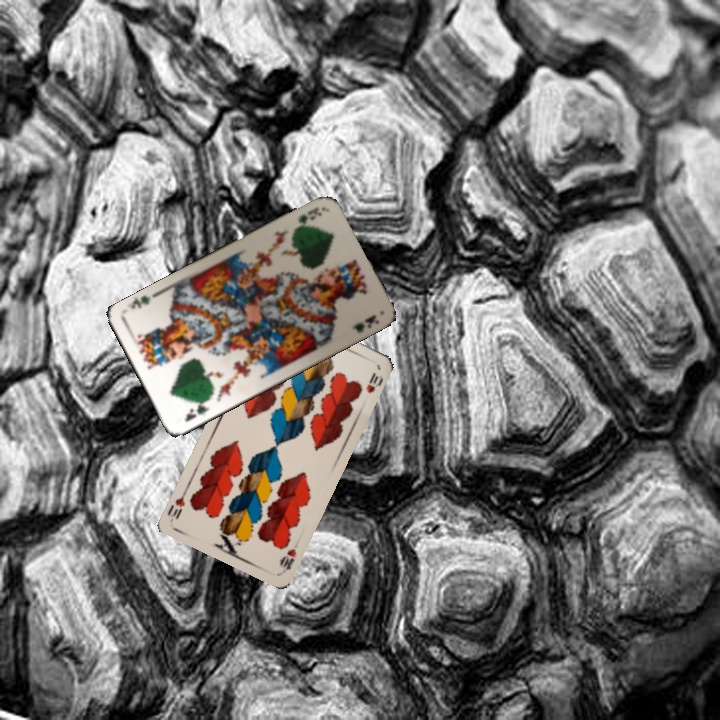GK: (290, 203, 325, 234), (180, 394, 212, 424)
H10: (276, 536, 302, 575)
